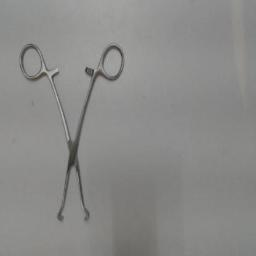Babcock Tissue Forceps: (16, 41, 126, 225)
